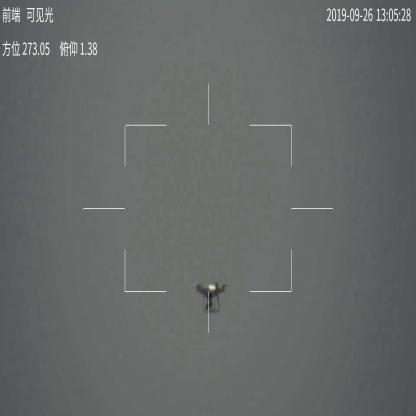uav: (192, 280, 233, 314)
